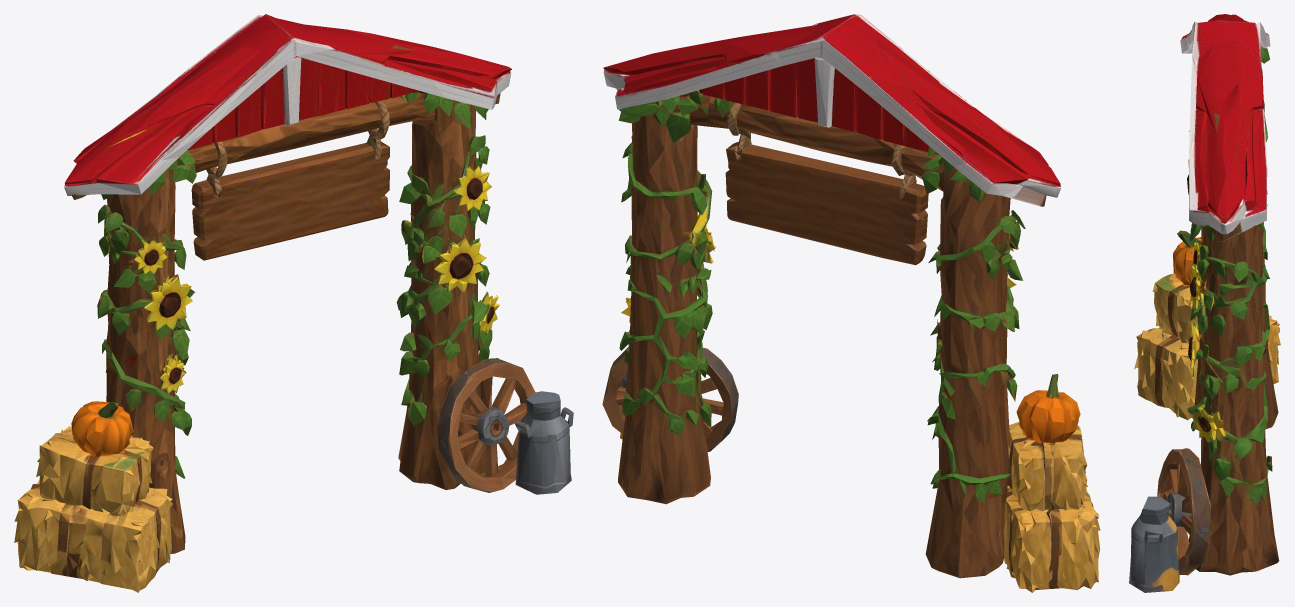
Rendered from gate_farm.glb.
3 views of the same model, side by side, from view 1: azimuth 30°, elevation 25°; view 2: azimuth 150°, elevation 25°; view 3: azimuth 270°, elevation 25° (orthographic). The views are drawn at different scales.
Bounding box in the file's own units: 1.9 × 1.73 × 0.519.
1 material, 1 textured.
